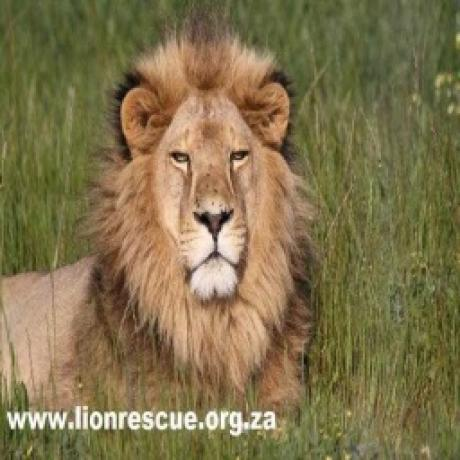Lion: (0, 13, 319, 423)
